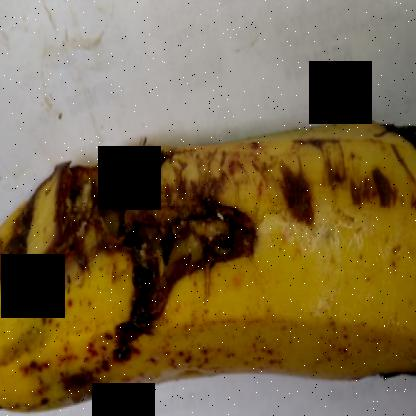rotten: (0, 96, 276, 387), (338, 95, 415, 208)
